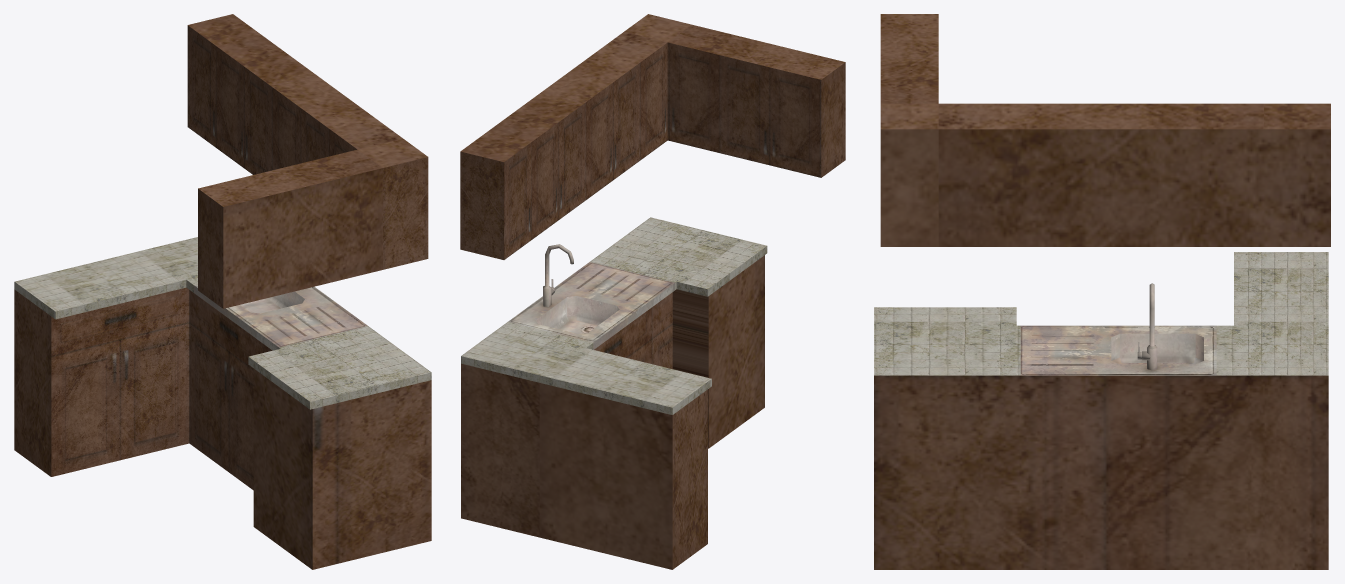
Rendered from kitchen.fbx.
The picture shows the model from 3 angles, left to right: view 1: azimuth 30°, elevation 25°; view 2: azimuth 150°, elevation 25°; view 3: azimuth 270°, elevation 25°; orthographic projection. The views are drawn at different scales.
Parts seen in each view (by area): view 1: kitchen, cupboard; view 2: kitchen, cupboard, washbasin_L; view 3: kitchen, cupboard, washbasin_L.
Boxes of the visible parts, box(x1,y1,x2,y2) form: kitchen: box(14, 237, 431, 569); cupboard: box(187, 14, 428, 308); kitchen: box(461, 217, 767, 569); cupboard: box(460, 14, 845, 259); washbasin_L: box(543, 244, 573, 306); kitchen: box(874, 252, 1328, 569); cupboard: box(880, 14, 1330, 246); washbasin_L: box(1137, 283, 1157, 370).
Size of the model in its own units: 160 by 266 by 250.
